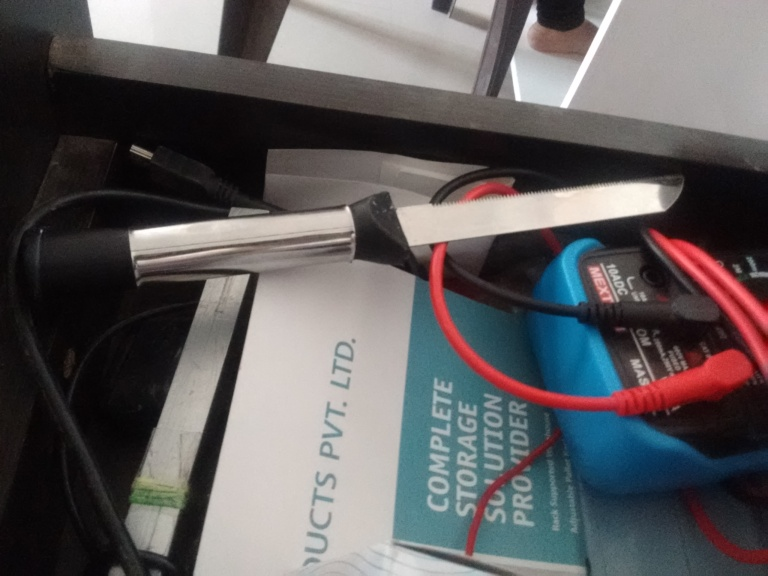knife: (27, 171, 683, 292)
